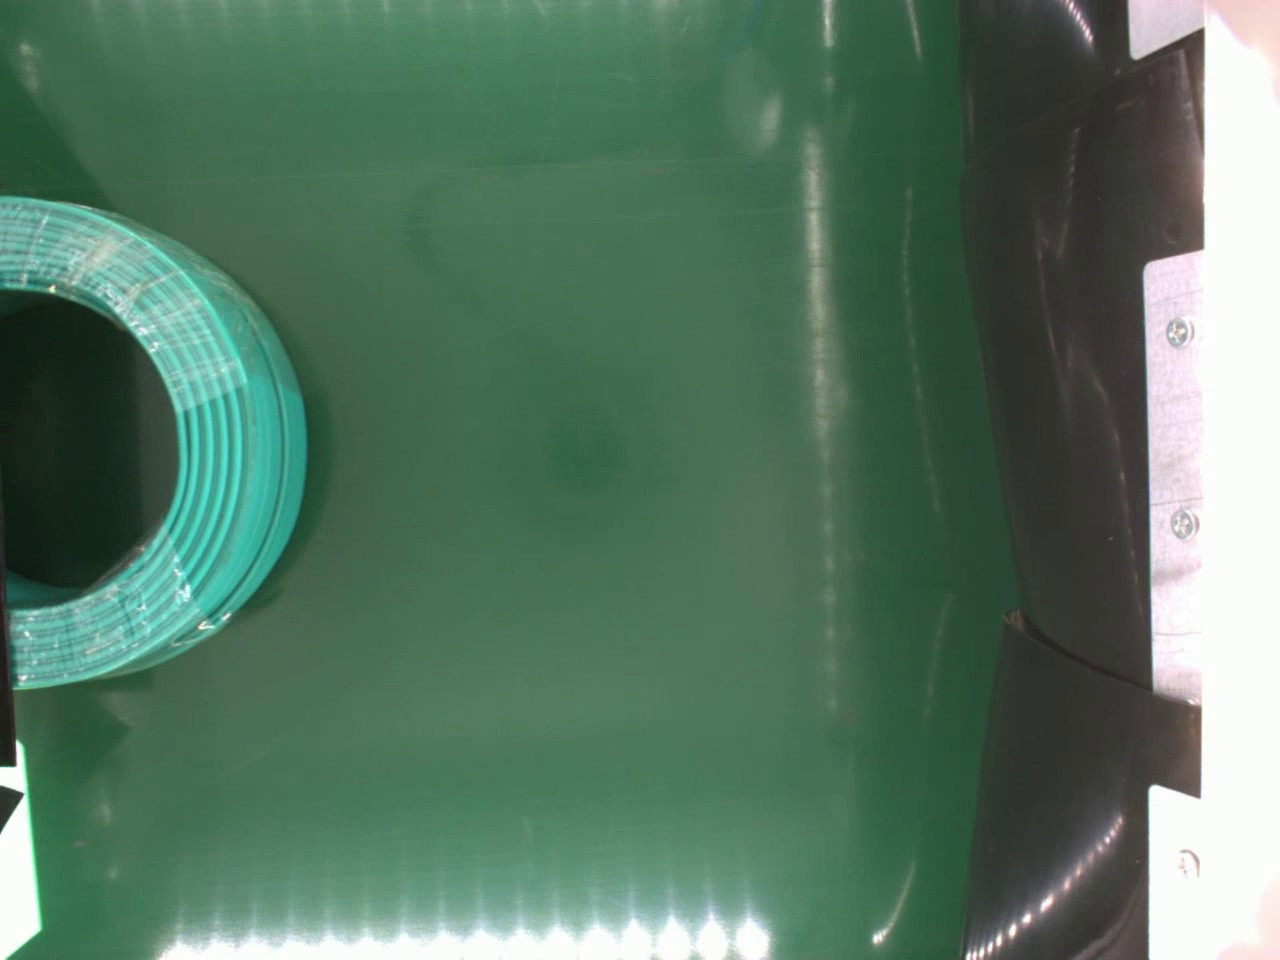green: (0, 201, 313, 689)
